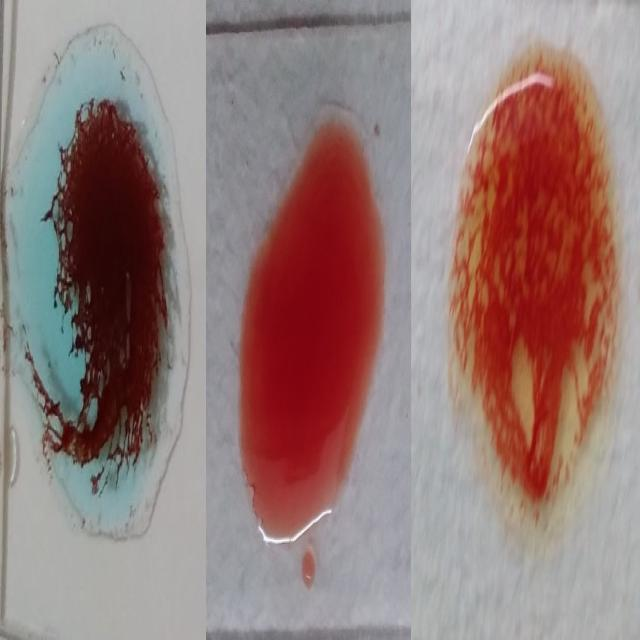A: (7, 24, 190, 540)
B: (455, 35, 617, 535)
